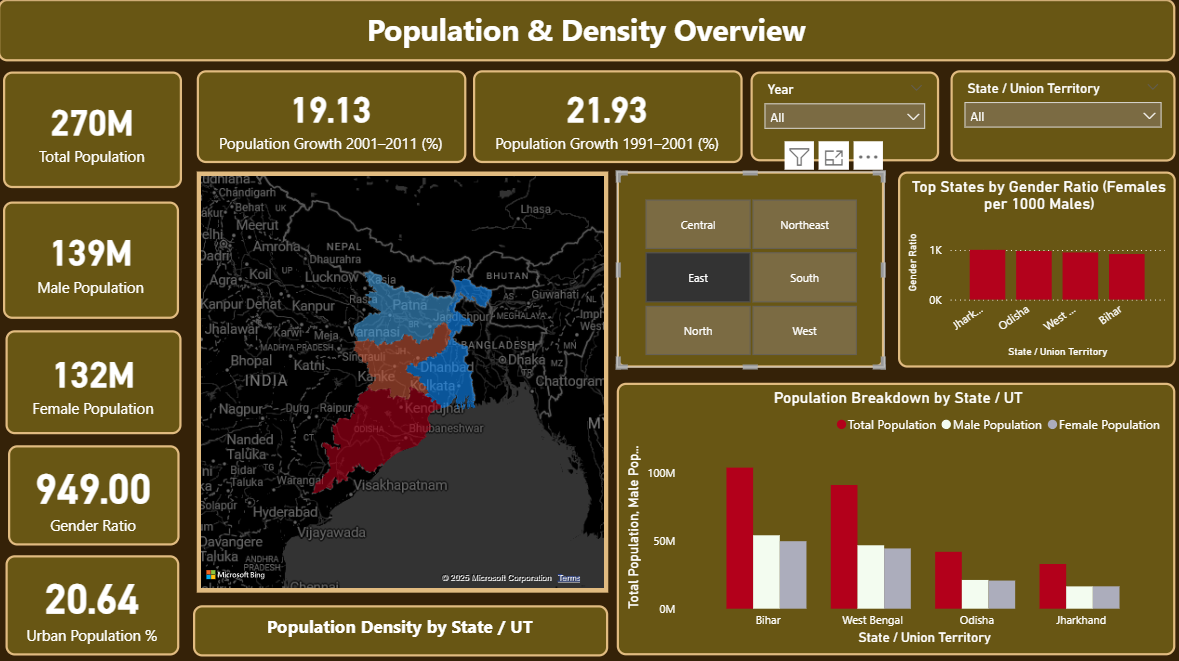

Layout of this report page (visuals, bound fields, positions):
{"tool":"powerbi","page":{"name":"Population and Density","canvas":[1280,720],"ordinal":1},"visuals":[{"type":"slicer","fields":{"Values":["CensusData.Year"]},"box":[810.4,78.1,203.3,96.9],"z":0},{"type":"slicer","fields":{"Values":["CensusData.State / Union Territory"]},"box":[1025.8,76.7,242.3,98.3],"z":1000},{"type":"slicer","fields":{"Values":["RegionData.Region"]},"box":[666.4,185.8,288.1,211.4],"z":2000},{"type":"filledMap","title":"States'' Population Density Distribution ","fields":{"Category":["CensusData.State / Union Territory"]},"box":[214.1,185.8,442.9,453.7],"z":3000},{"type":"card","fields":{"Values":["MeasuresTable.Total Population (Dynamic)"]},"box":[5.4,78.1,192.5,125.2],"z":4000},{"type":"card","fields":{"Values":["MeasuresTable.Male Population"]},"box":[5.4,218.1,189.8,126.5],"z":5000},{"type":"card","fields":{"Values":["MeasuresTable.Female Population"]},"box":[8.1,356.8,189.8,111.7],"z":6000},{"type":"card","fields":{"Values":["MeasuresTable.Urban Population % Selected Year"]},"box":[8.1,599.1,187.1,107.7],"z":7000},{"type":"card","fields":{"Values":["MeasuresTable.Gender Ratio"]},"box":[10.8,480.6,184.4,107.7],"z":8000},{"type":"clusteredColumnChart","title":"Population Breakdown by State / UT","fields":{"Category":["CensusData.State / Union Territory"],"Y":["MeasuresTable.Total Population","MeasuresTable.Male Population","MeasuresTable.Female Population"]},"box":[666.4,413.3,601.8,293.5],"z":9000},{"type":"card","fields":{"Values":["MeasuresTable.Population Growth 1991–2001 (%)"]},"box":[511.4,77.1,290,100],"z":10000},{"type":"textbox","box":[0,0,1268.2,67.3],"z":11000},{"type":"card","fields":{"Values":["MeasuresTable.Population Growth 2001–2011 (%)"]},"box":[214.3,77.1,290,100],"z":12000},{"type":"columnChart","title":" Top States by Gender Ratio (Females per 1000 Males)","fields":{"Category":["CensusData.State / Union Territory"],"Y":["MeasuresTable.Gender Ratio"]},"box":[969.3,185.8,298.9,211.4],"z":13000},{"type":"textbox","box":[210,652.9,447,55.2],"z":14000}]}

Visuals, with their boxes in screenshot pixels (x1, y1, x2, y2), scaled from the page's 1280x720 canvas onto the 1179x661 screenshot:
slicer - CensusData.Year: {"x1": 746, "y1": 72, "x2": 934, "y2": 161}
slicer - CensusData.State / Union Territory: {"x1": 945, "y1": 70, "x2": 1168, "y2": 161}
slicer - RegionData.Region: {"x1": 614, "y1": 171, "x2": 879, "y2": 365}
"States'' Population Density Distribution " filledMap: {"x1": 197, "y1": 171, "x2": 605, "y2": 587}
card - MeasuresTable.Total Population (Dynamic): {"x1": 5, "y1": 72, "x2": 182, "y2": 187}
card - MeasuresTable.Male Population: {"x1": 5, "y1": 200, "x2": 180, "y2": 316}
card - MeasuresTable.Female Population: {"x1": 7, "y1": 328, "x2": 182, "y2": 430}
card - MeasuresTable.Urban Population % Selected Year: {"x1": 7, "y1": 550, "x2": 180, "y2": 649}
card - MeasuresTable.Gender Ratio: {"x1": 10, "y1": 441, "x2": 180, "y2": 540}
"Population Breakdown by State / UT" clusteredColumnChart: {"x1": 614, "y1": 379, "x2": 1168, "y2": 649}
card - MeasuresTable.Population Growth 1991–2001 (%): {"x1": 471, "y1": 71, "x2": 738, "y2": 163}
textbox: {"x1": 0, "y1": 0, "x2": 1168, "y2": 62}
card - MeasuresTable.Population Growth 2001–2011 (%): {"x1": 197, "y1": 71, "x2": 465, "y2": 163}
" Top States by Gender Ratio (Females per 1000 Males)" columnChart: {"x1": 893, "y1": 171, "x2": 1168, "y2": 365}
textbox: {"x1": 193, "y1": 599, "x2": 605, "y2": 650}
